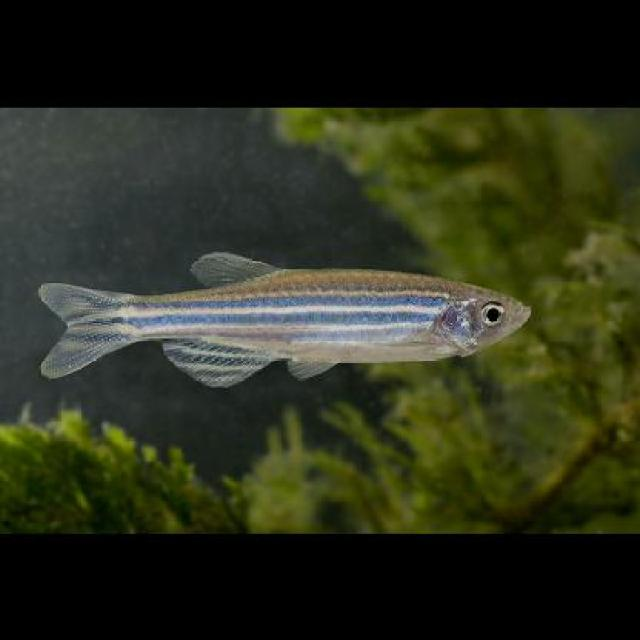ZebraFish: (34, 249, 529, 388)
